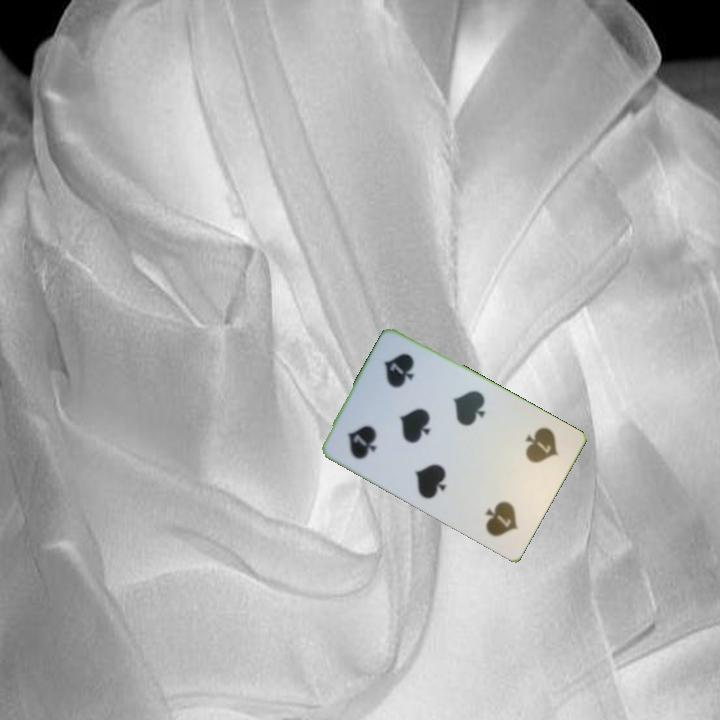s_7.png: (329, 390, 411, 475), (493, 412, 574, 497)
